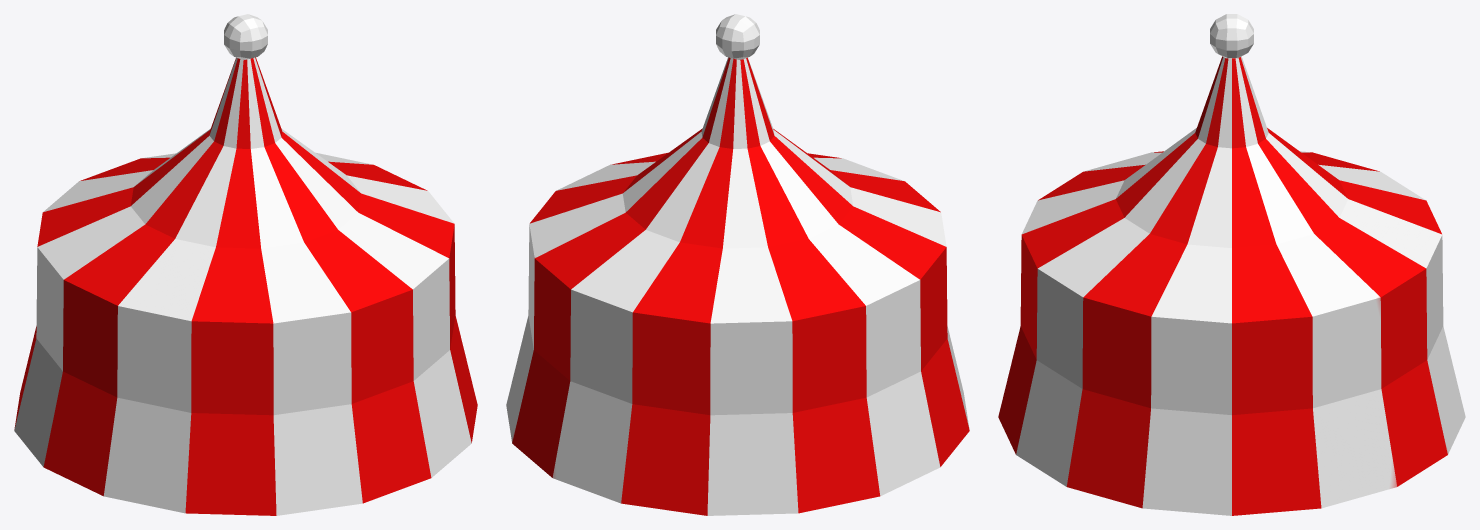
The model's file is Tent.fbx.
The picture shows the model from 3 angles, left to right: view 1: azimuth 30°, elevation 25°; view 2: azimuth 150°, elevation 25°; view 3: azimuth 270°, elevation 25°; orthographic projection.
Parts seen in each view (by area): view 1: Mat, Roundcube; view 2: Mat, Roundcube; view 3: Mat, Roundcube.
Boxes of the visible parts, x1,y1,x2,y2 form: Mat: (14, 57, 477, 515); Roundcube: (224, 14, 267, 59); Mat: (506, 57, 969, 515); Roundcube: (716, 14, 759, 59); Mat: (998, 56, 1465, 515); Roundcube: (1210, 14, 1253, 58).
Bounding box in the file's own units: 2000 × 1892 × 2000.
